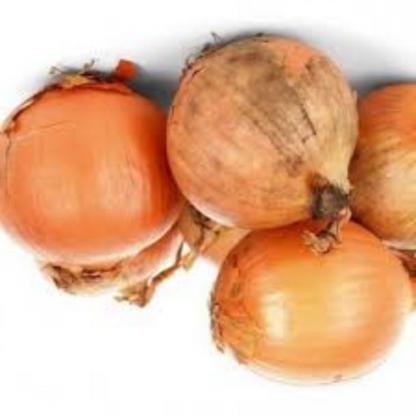onion: (154, 38, 366, 252), (0, 72, 183, 302), (200, 215, 414, 401), (340, 64, 416, 255)
